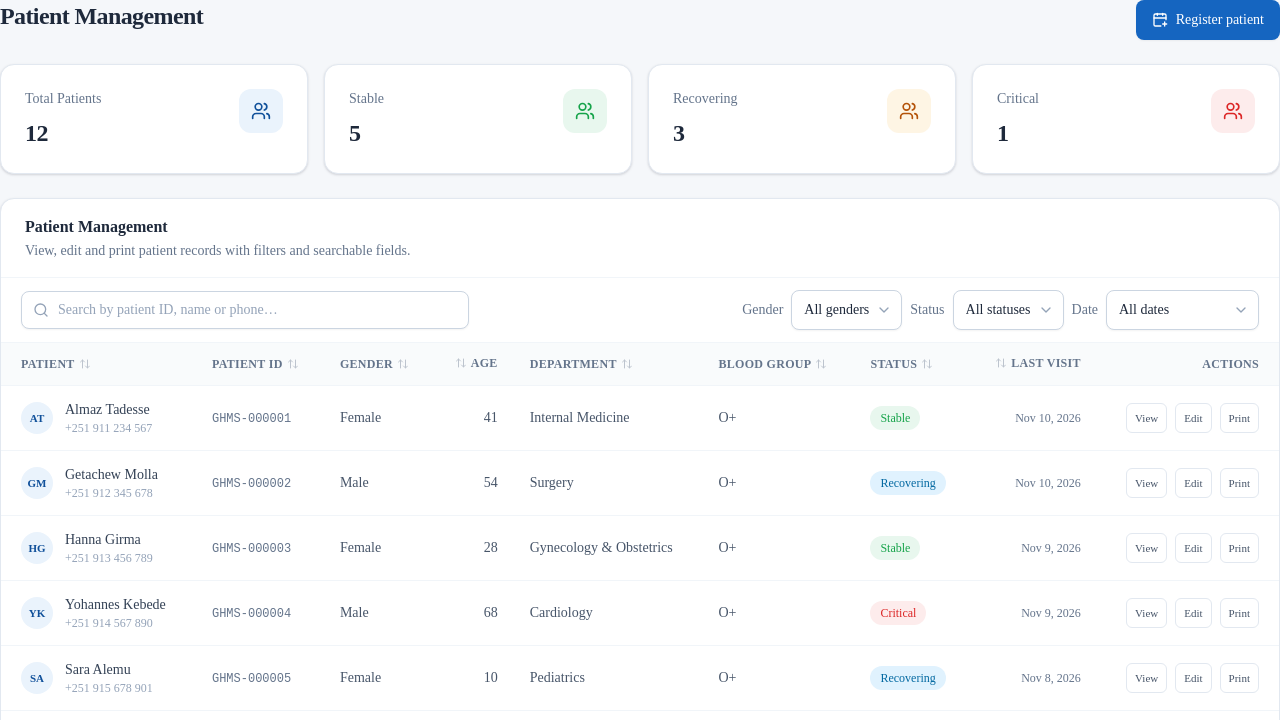
Scenario: GHMS core operational workflows › searches patients and saves editable demographic changes locally
This screenshot has width=1280, height=720.
Type "Almaz" into the field named "Search patient records" at (245, 310), box [21,291,469,329]
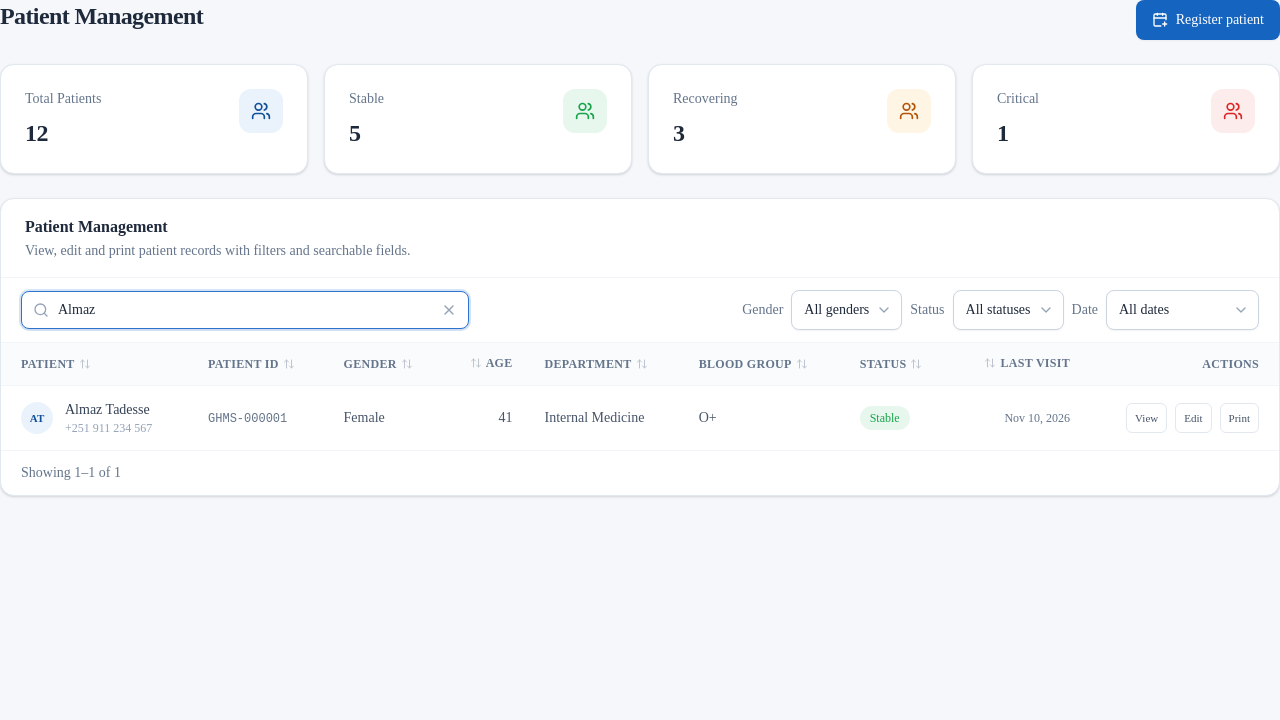
Expected: the text "Almaz Tadesse" is shown, [65,400,152,420]
Now the text "Getachew Molla" is gone
Click the button "Edit" at (1193, 418), box [1175,403,1212,433]
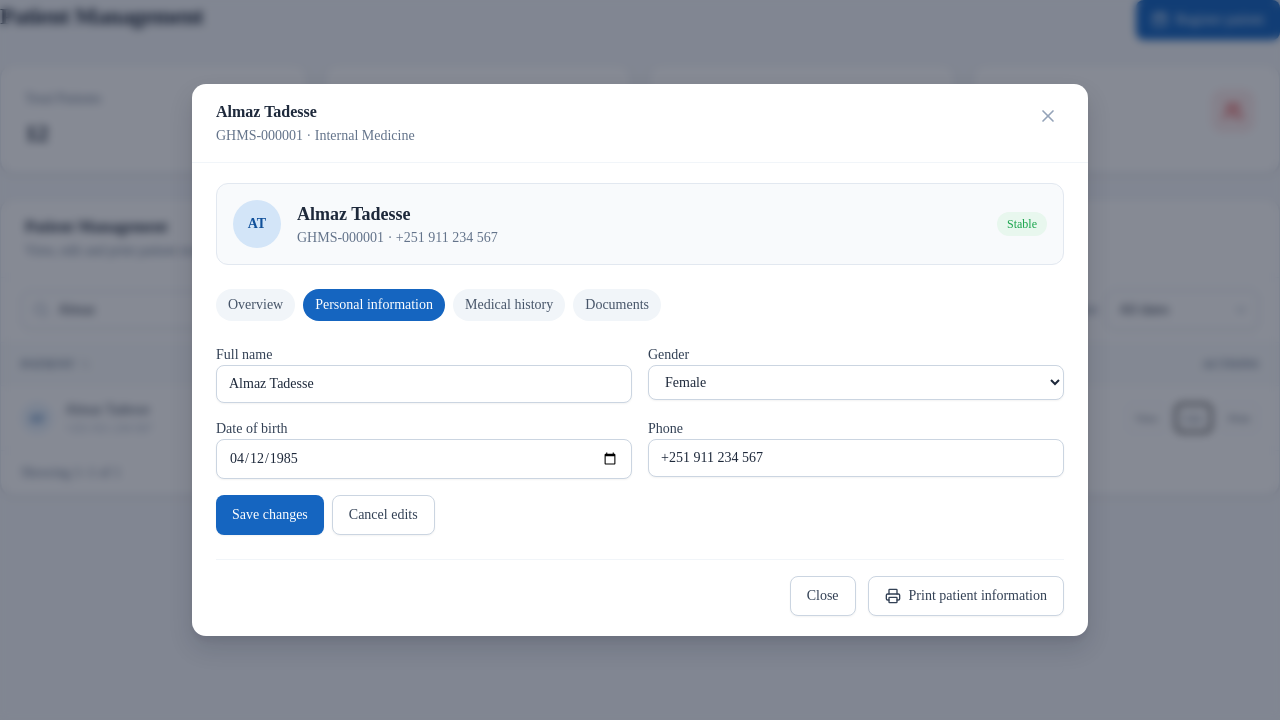
Replace the text in the field labelled "Full name" with "Almaz Tadesse Updated" at (424, 384), box [216,365,632,403]
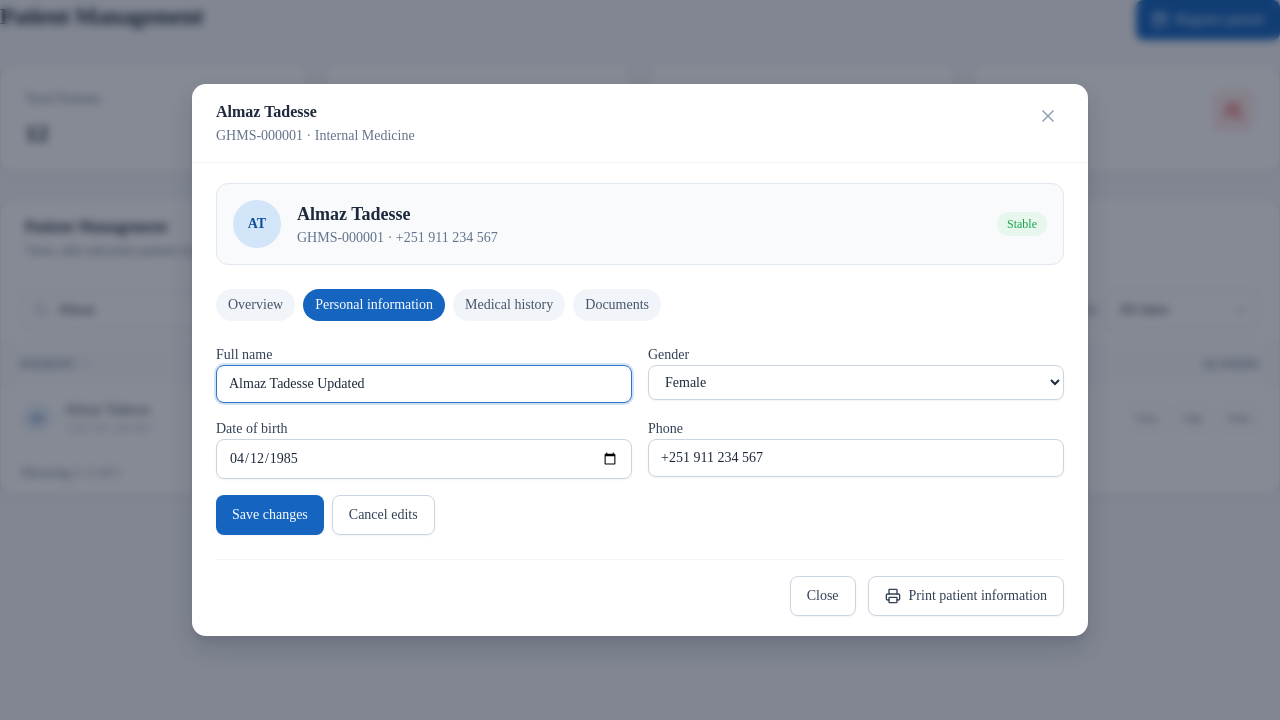
Click the button "Save changes" at (270, 515), box [216,495,324,535]
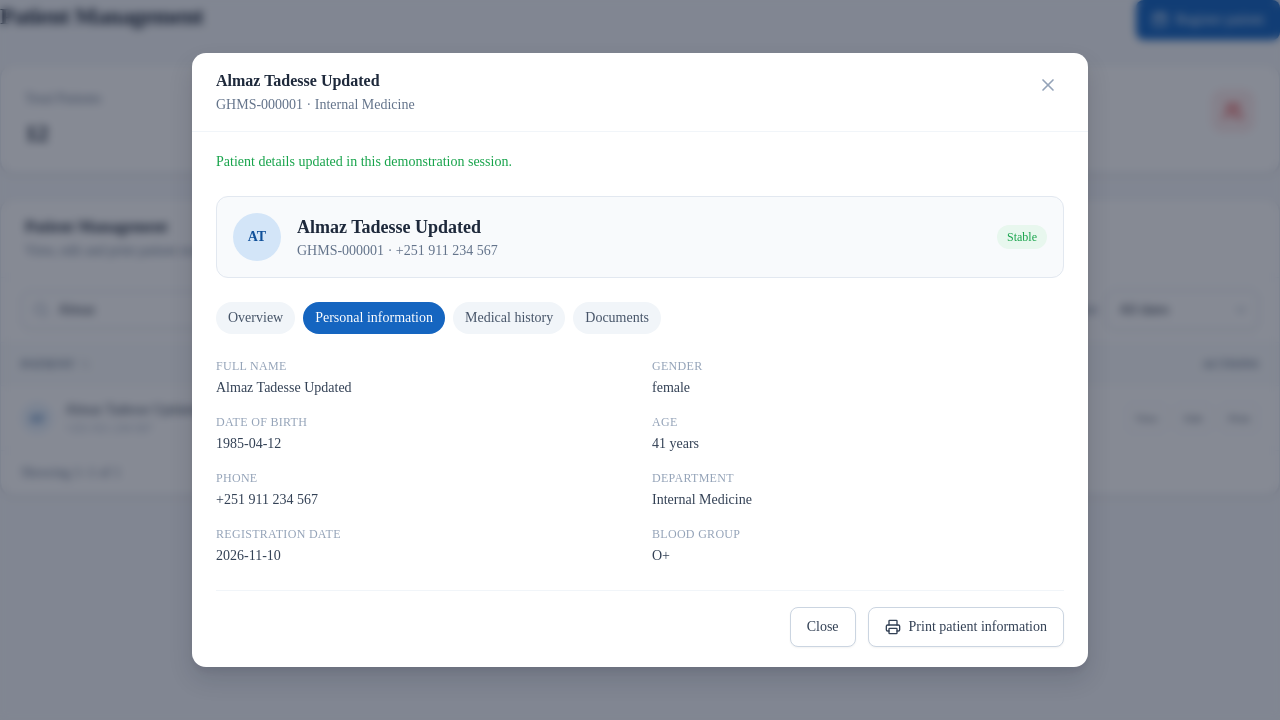
Expected: the text "Almaz Tadesse Updated" in the row of "Nov 10, 2026" is shown, [65,402,201,417]
Now the message shows "Patient details updated", box [216,154,512,169]
